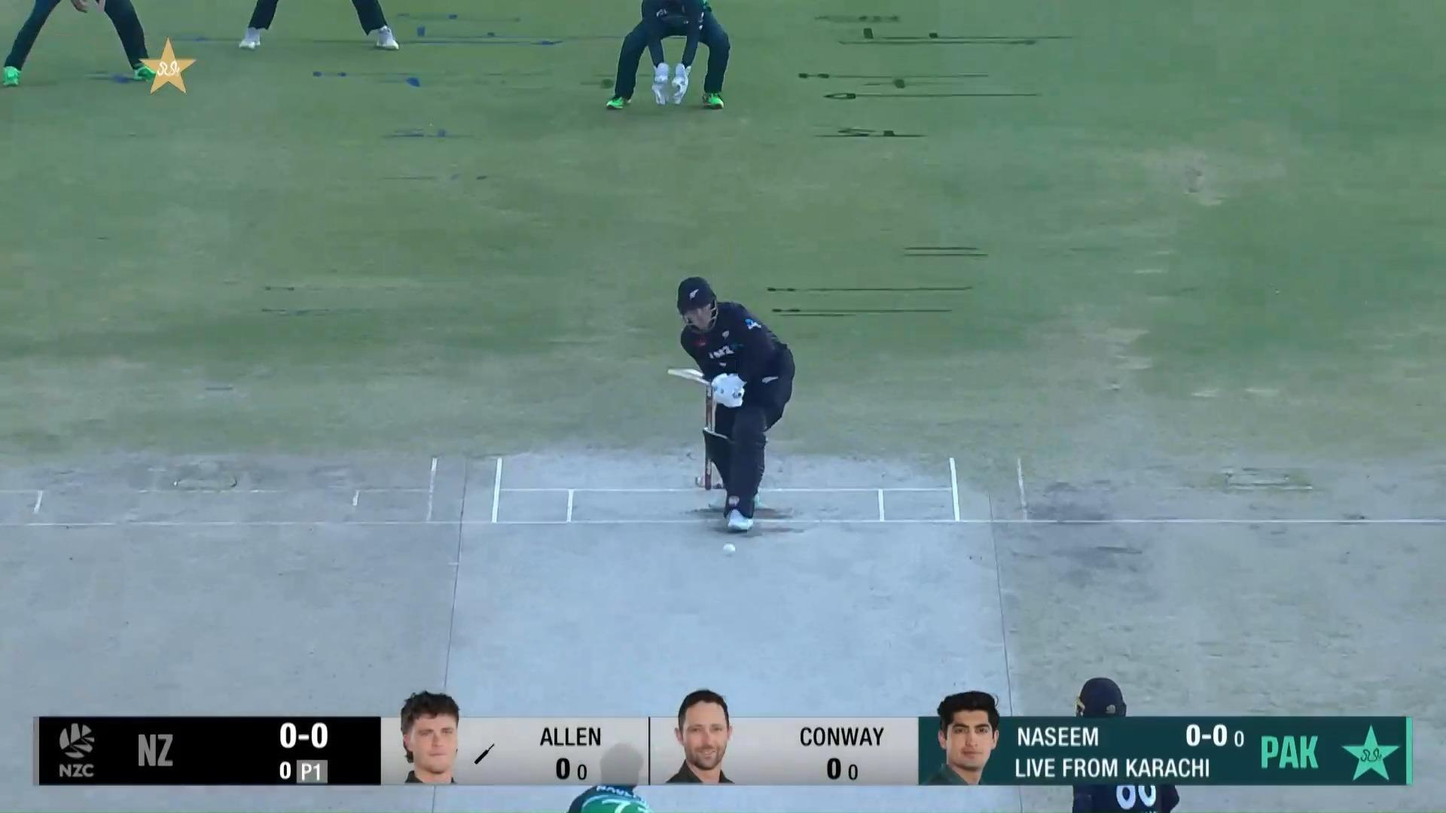BM 1: (665, 274, 796, 534)
BO: (567, 784, 653, 813)
